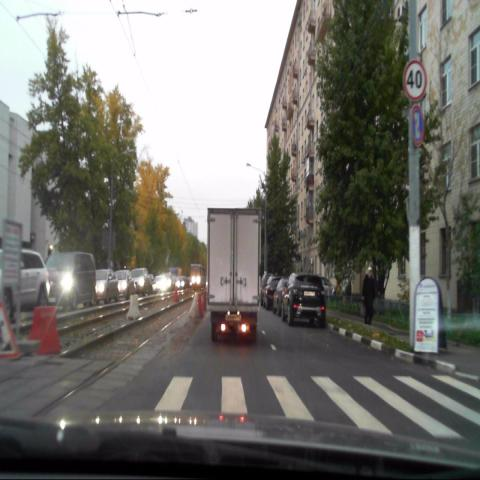3_24: (404, 59, 427, 101)
3_30: (411, 104, 425, 147)
